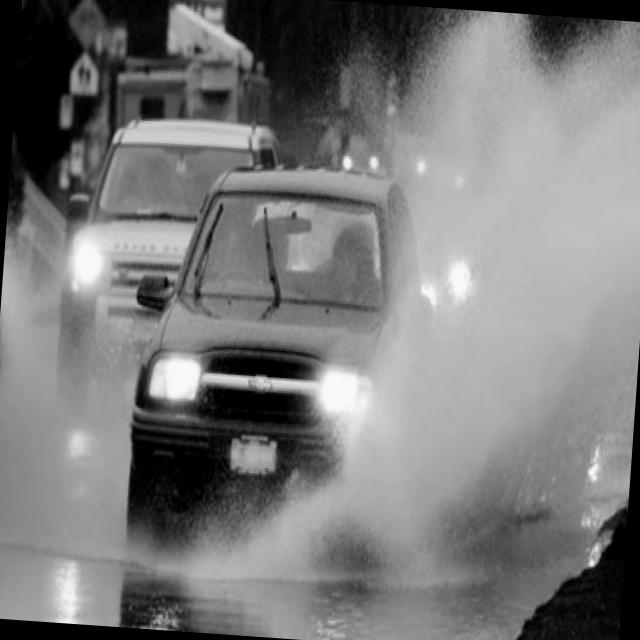Car: (120, 152, 450, 574), (42, 103, 286, 428)
